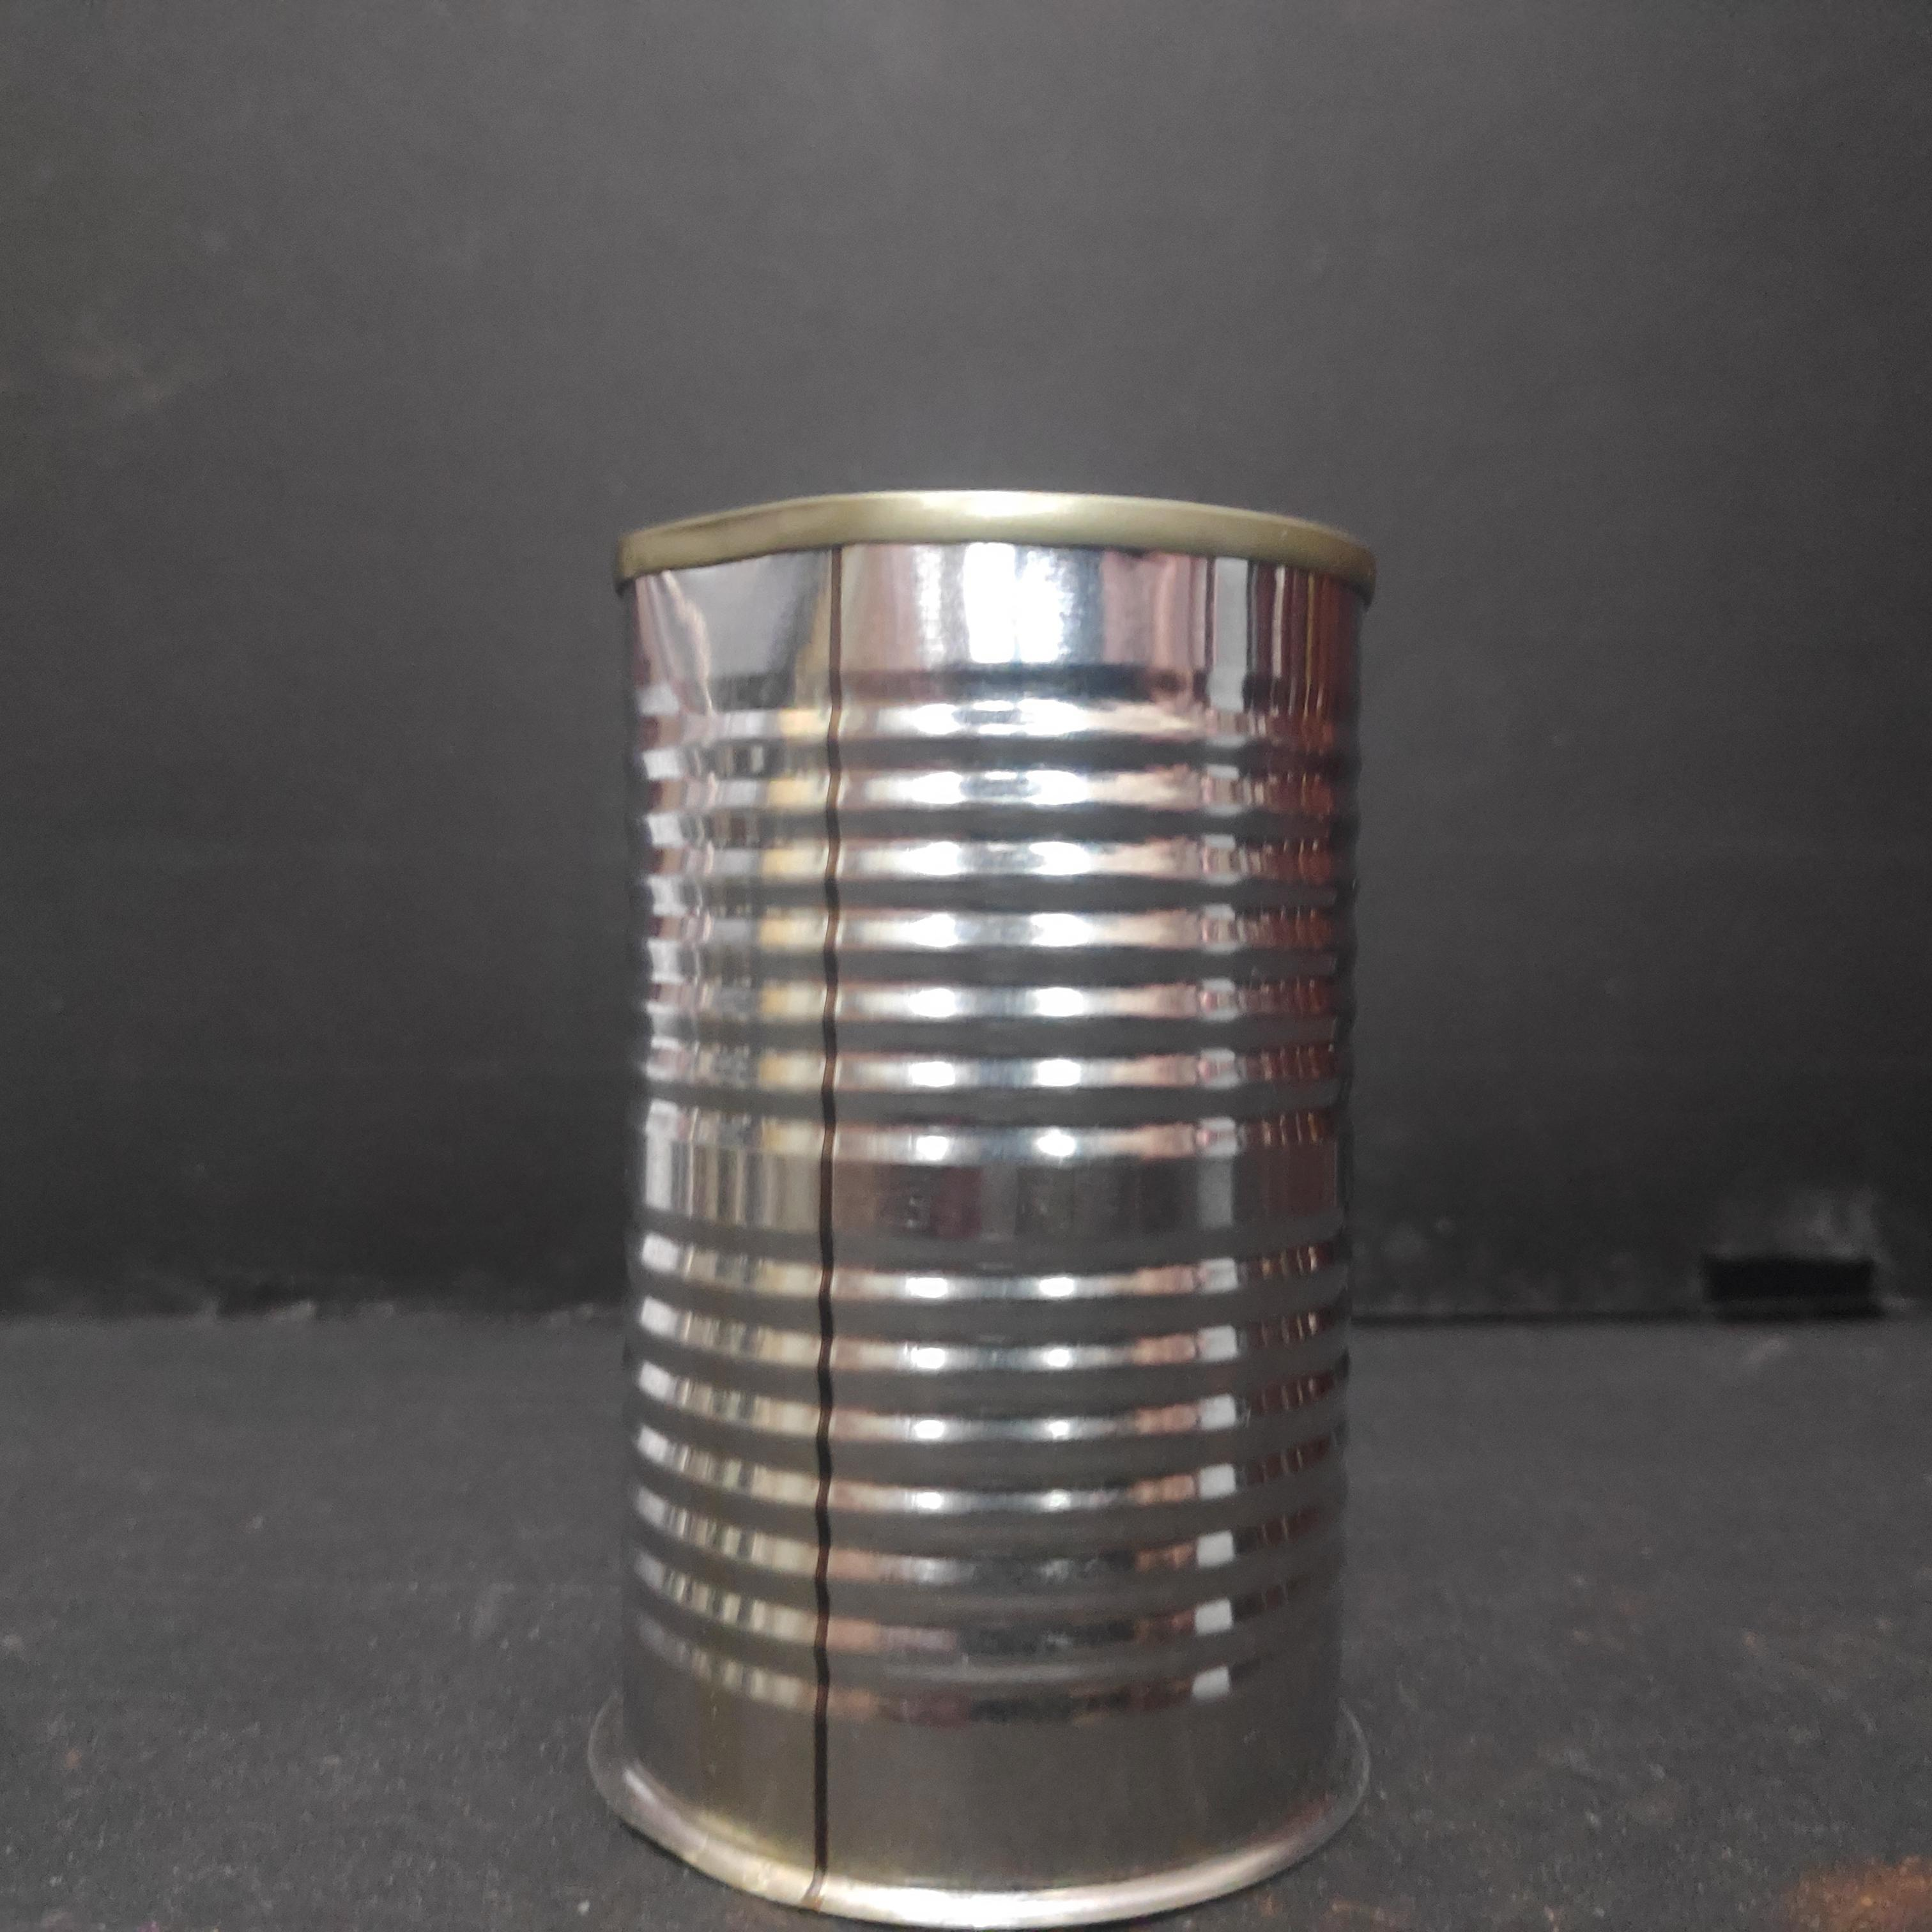Minor Defect: (602, 483, 1392, 1932)
